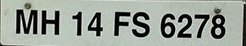character: (14, 7, 38, 35), (40, 8, 60, 36), (132, 11, 150, 38), (176, 13, 193, 38), (87, 11, 103, 37), (114, 11, 130, 37), (210, 13, 226, 39), (194, 13, 210, 38), (160, 13, 175, 38), (71, 10, 83, 37)
